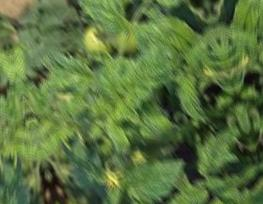Tomato leaf yellow virus: (105, 38, 189, 108), (111, 145, 197, 204), (111, 90, 183, 157), (163, 62, 218, 132), (188, 125, 249, 180), (70, 0, 138, 45), (6, 38, 43, 105), (129, 0, 205, 16)
